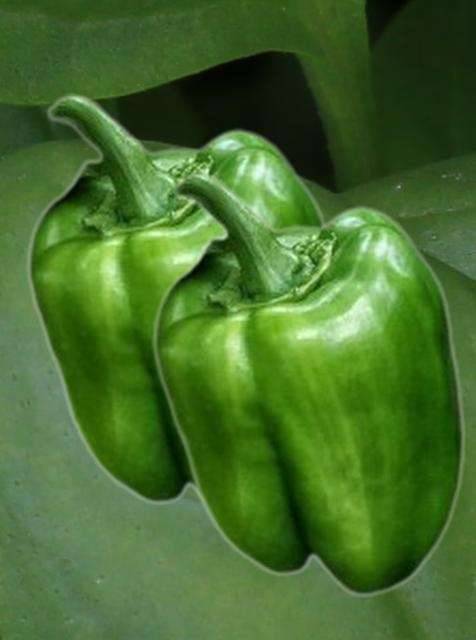bell_pepper: (151, 171, 466, 597), (25, 93, 327, 508)
